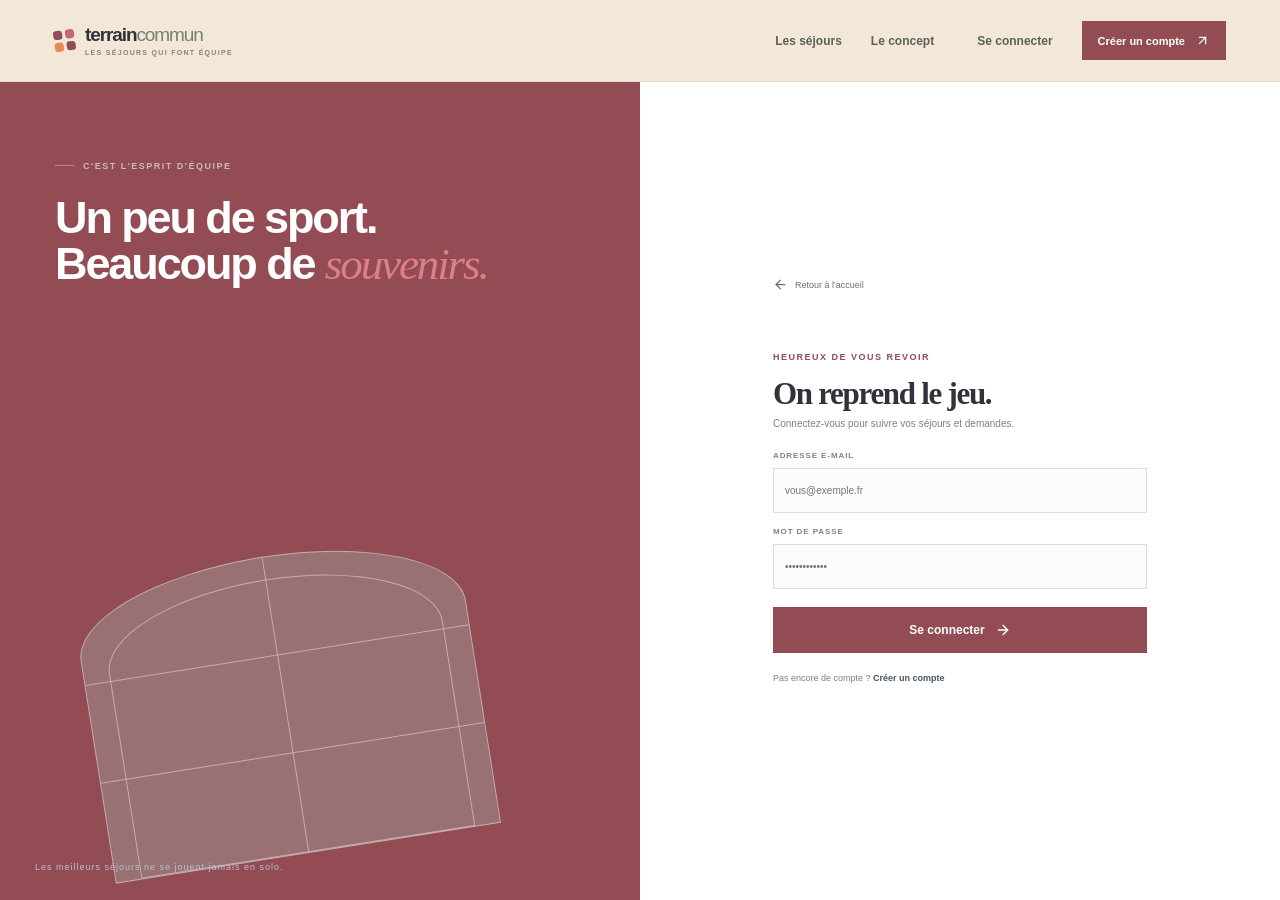
application web › impose la connexion avant d'afficher les choix de réservation
Expected: the heading "On reprend le jeu." is shown, [773,376,991,411]
Type "club@example.test" into the field labelled "ADRESSE E-MAIL" at (960, 490), box [773,468,1147,513]
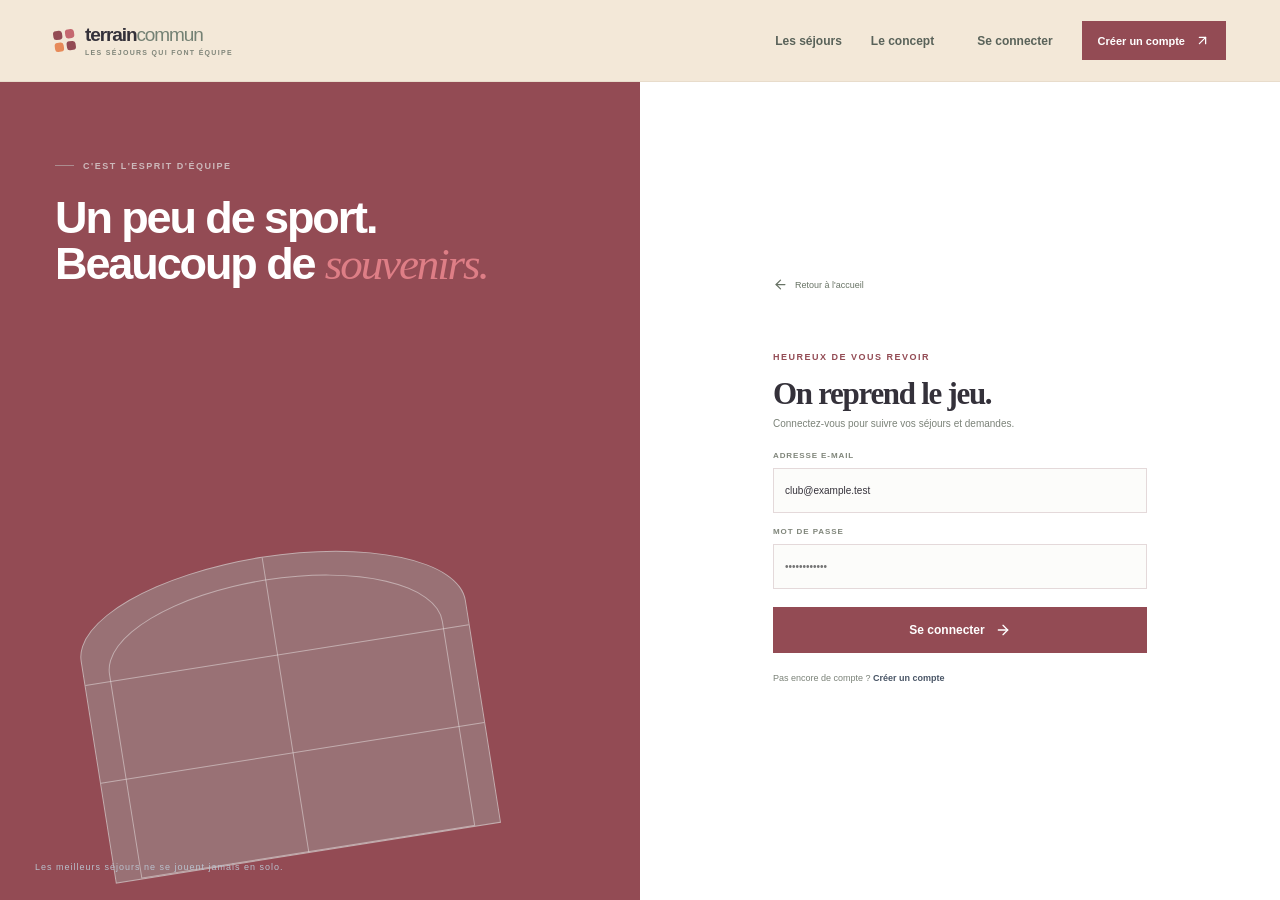
Type "mot-de-passe-test" into the password field labelled "MOT DE PASSE" at (960, 566), box [773,544,1147,589]
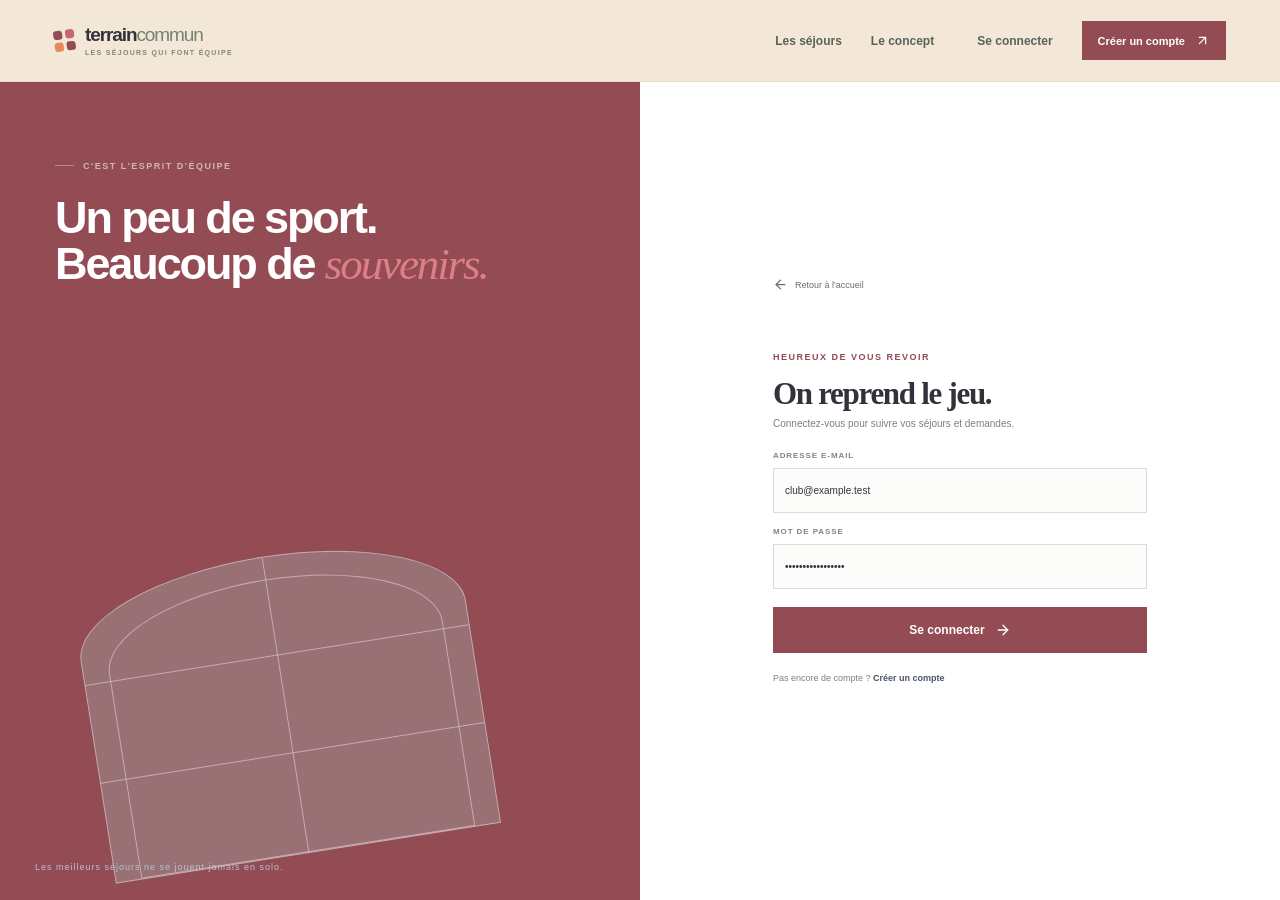
Click the button "Se connecter" at (960, 630), box [773,607,1147,653]
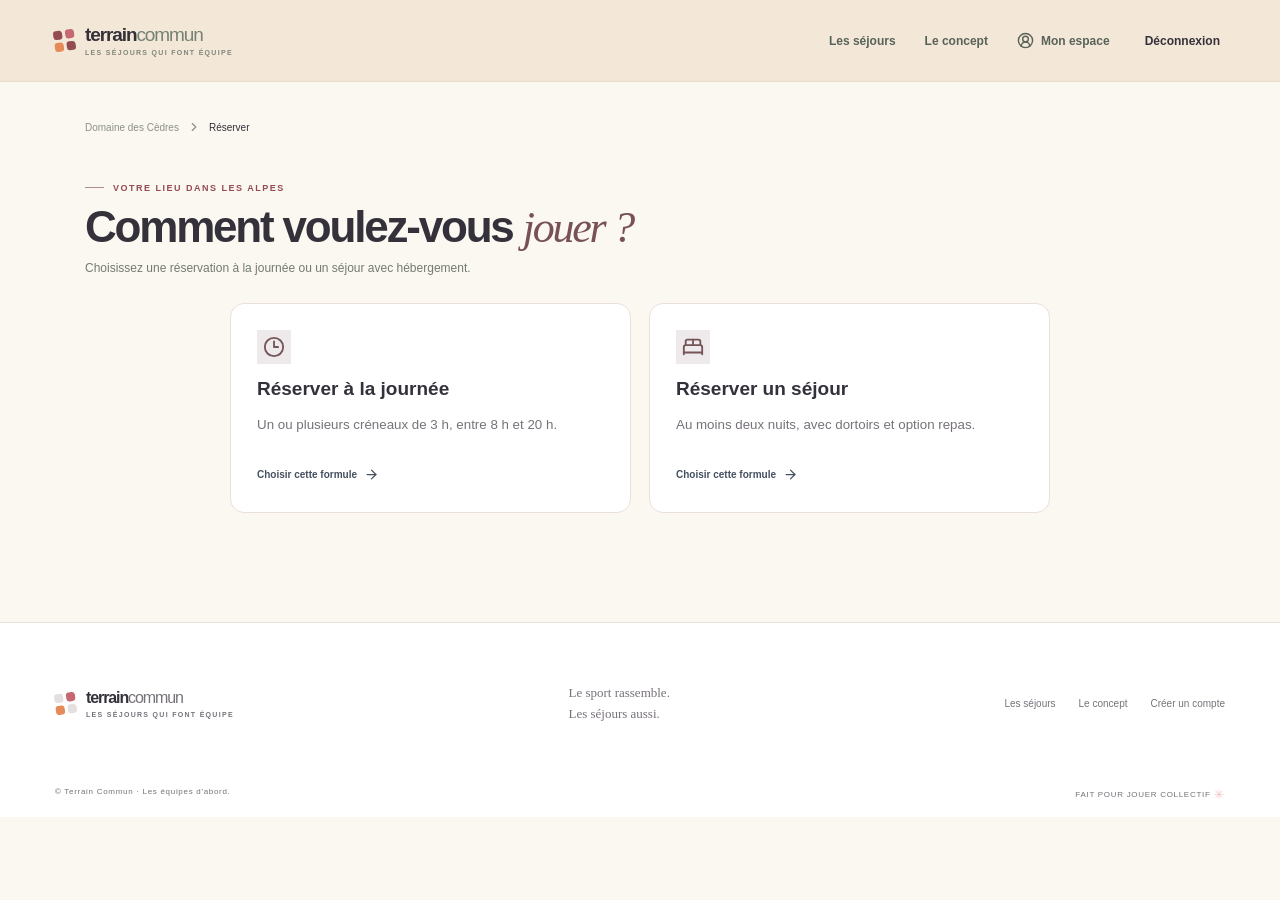
Now the heading "Comment voulez-vous jouer ?" is shown, box [85,202,633,252]
Now the button "Réserver à la journée" is shown, box [230,303,631,513]
Now the button "Réserver un séjour" is shown, box [649,303,1050,513]
